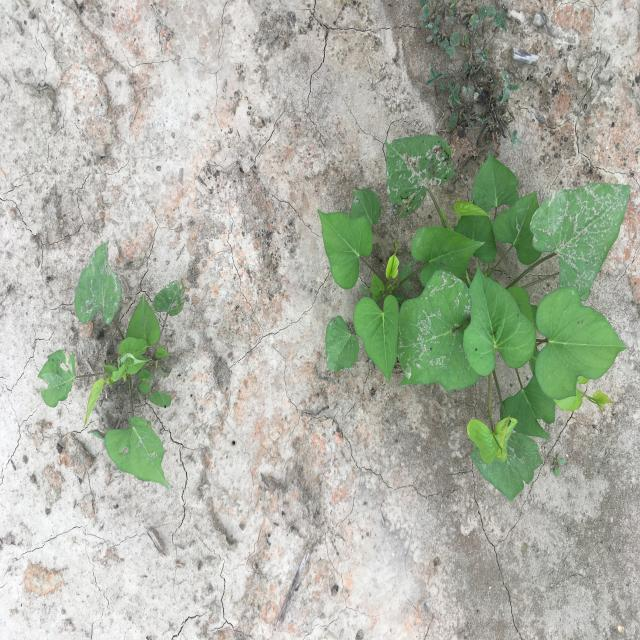Carpetweed: (551, 454, 564, 476)
MorningGlory: (318, 134, 632, 503), (38, 240, 186, 490)
